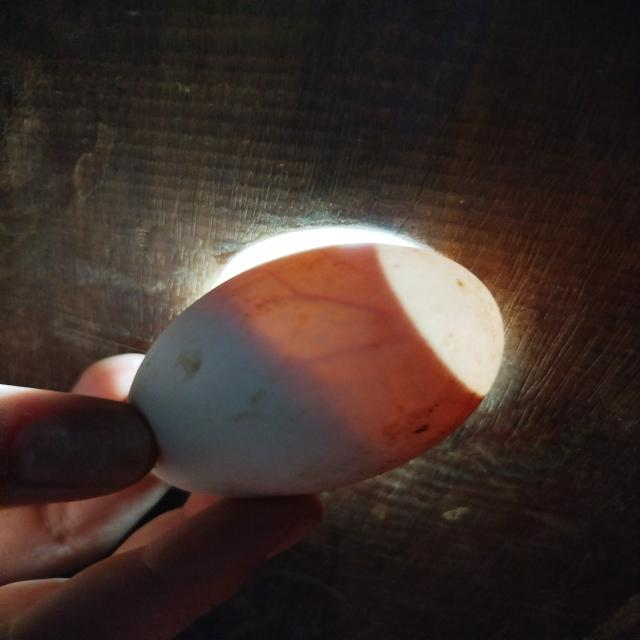Embriao: (135, 290, 382, 494)
